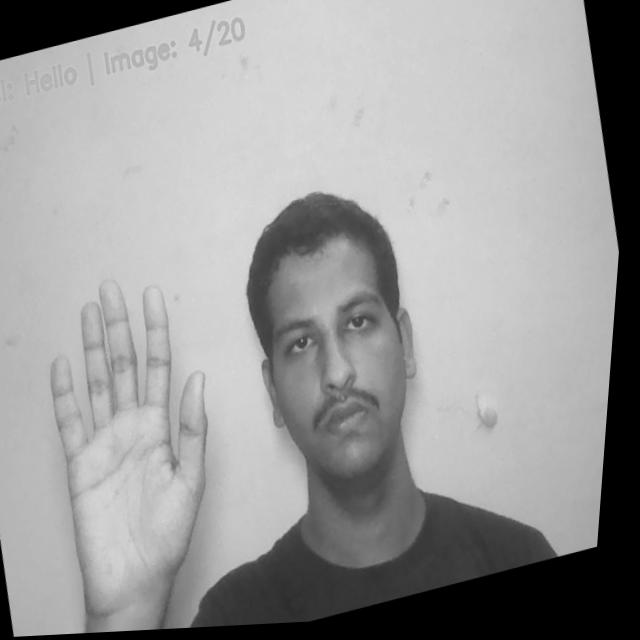Hello: (14, 244, 264, 603)
